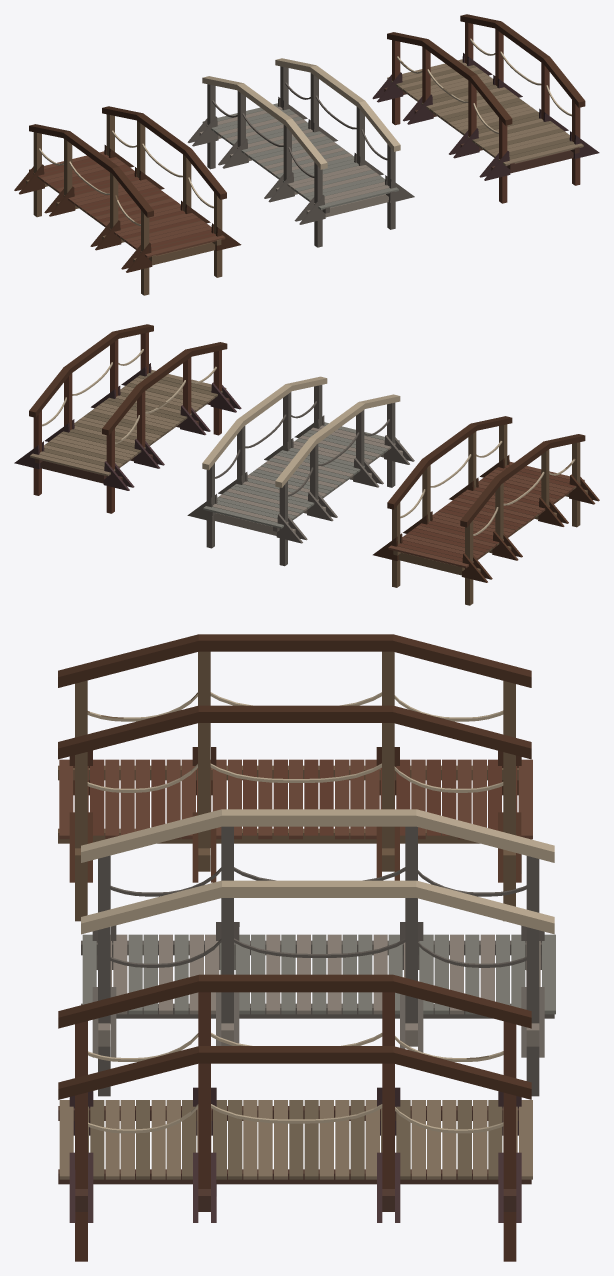
File: bridge.fbx
3 views of the same model, one above another, from view 1: azimuth 30°, elevation 25°; view 2: azimuth 150°, elevation 25°; view 3: azimuth 270°, elevation 25° (orthographic). The views are drawn at different scales.
Parts seen in each view (by area): view 1: Cube.012, Cube.011, Cube.010; view 2: Cube.012, Cube.011, Cube.010; view 3: Cube.010, Cube.011, Cube.012.
Boxes of the visible parts, x1,y1,x2,y2 form: Cube.012: (187, 58, 414, 247); Cube.011: (14, 106, 241, 295); Cube.010: (372, 14, 599, 203); Cube.012: (187, 376, 414, 566); Cube.011: (373, 416, 599, 605); Cube.010: (14, 324, 241, 513); Cube.010: (58, 974, 532, 1261); Cube.011: (58, 634, 532, 921); Cube.012: (81, 809, 555, 1096).
Size of the model in its own units: 2775 by 614 by 1265.
